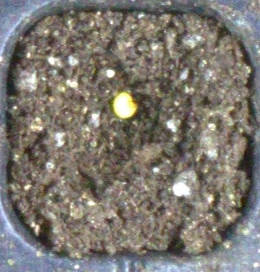pepper seed: (42, 32, 181, 151)
